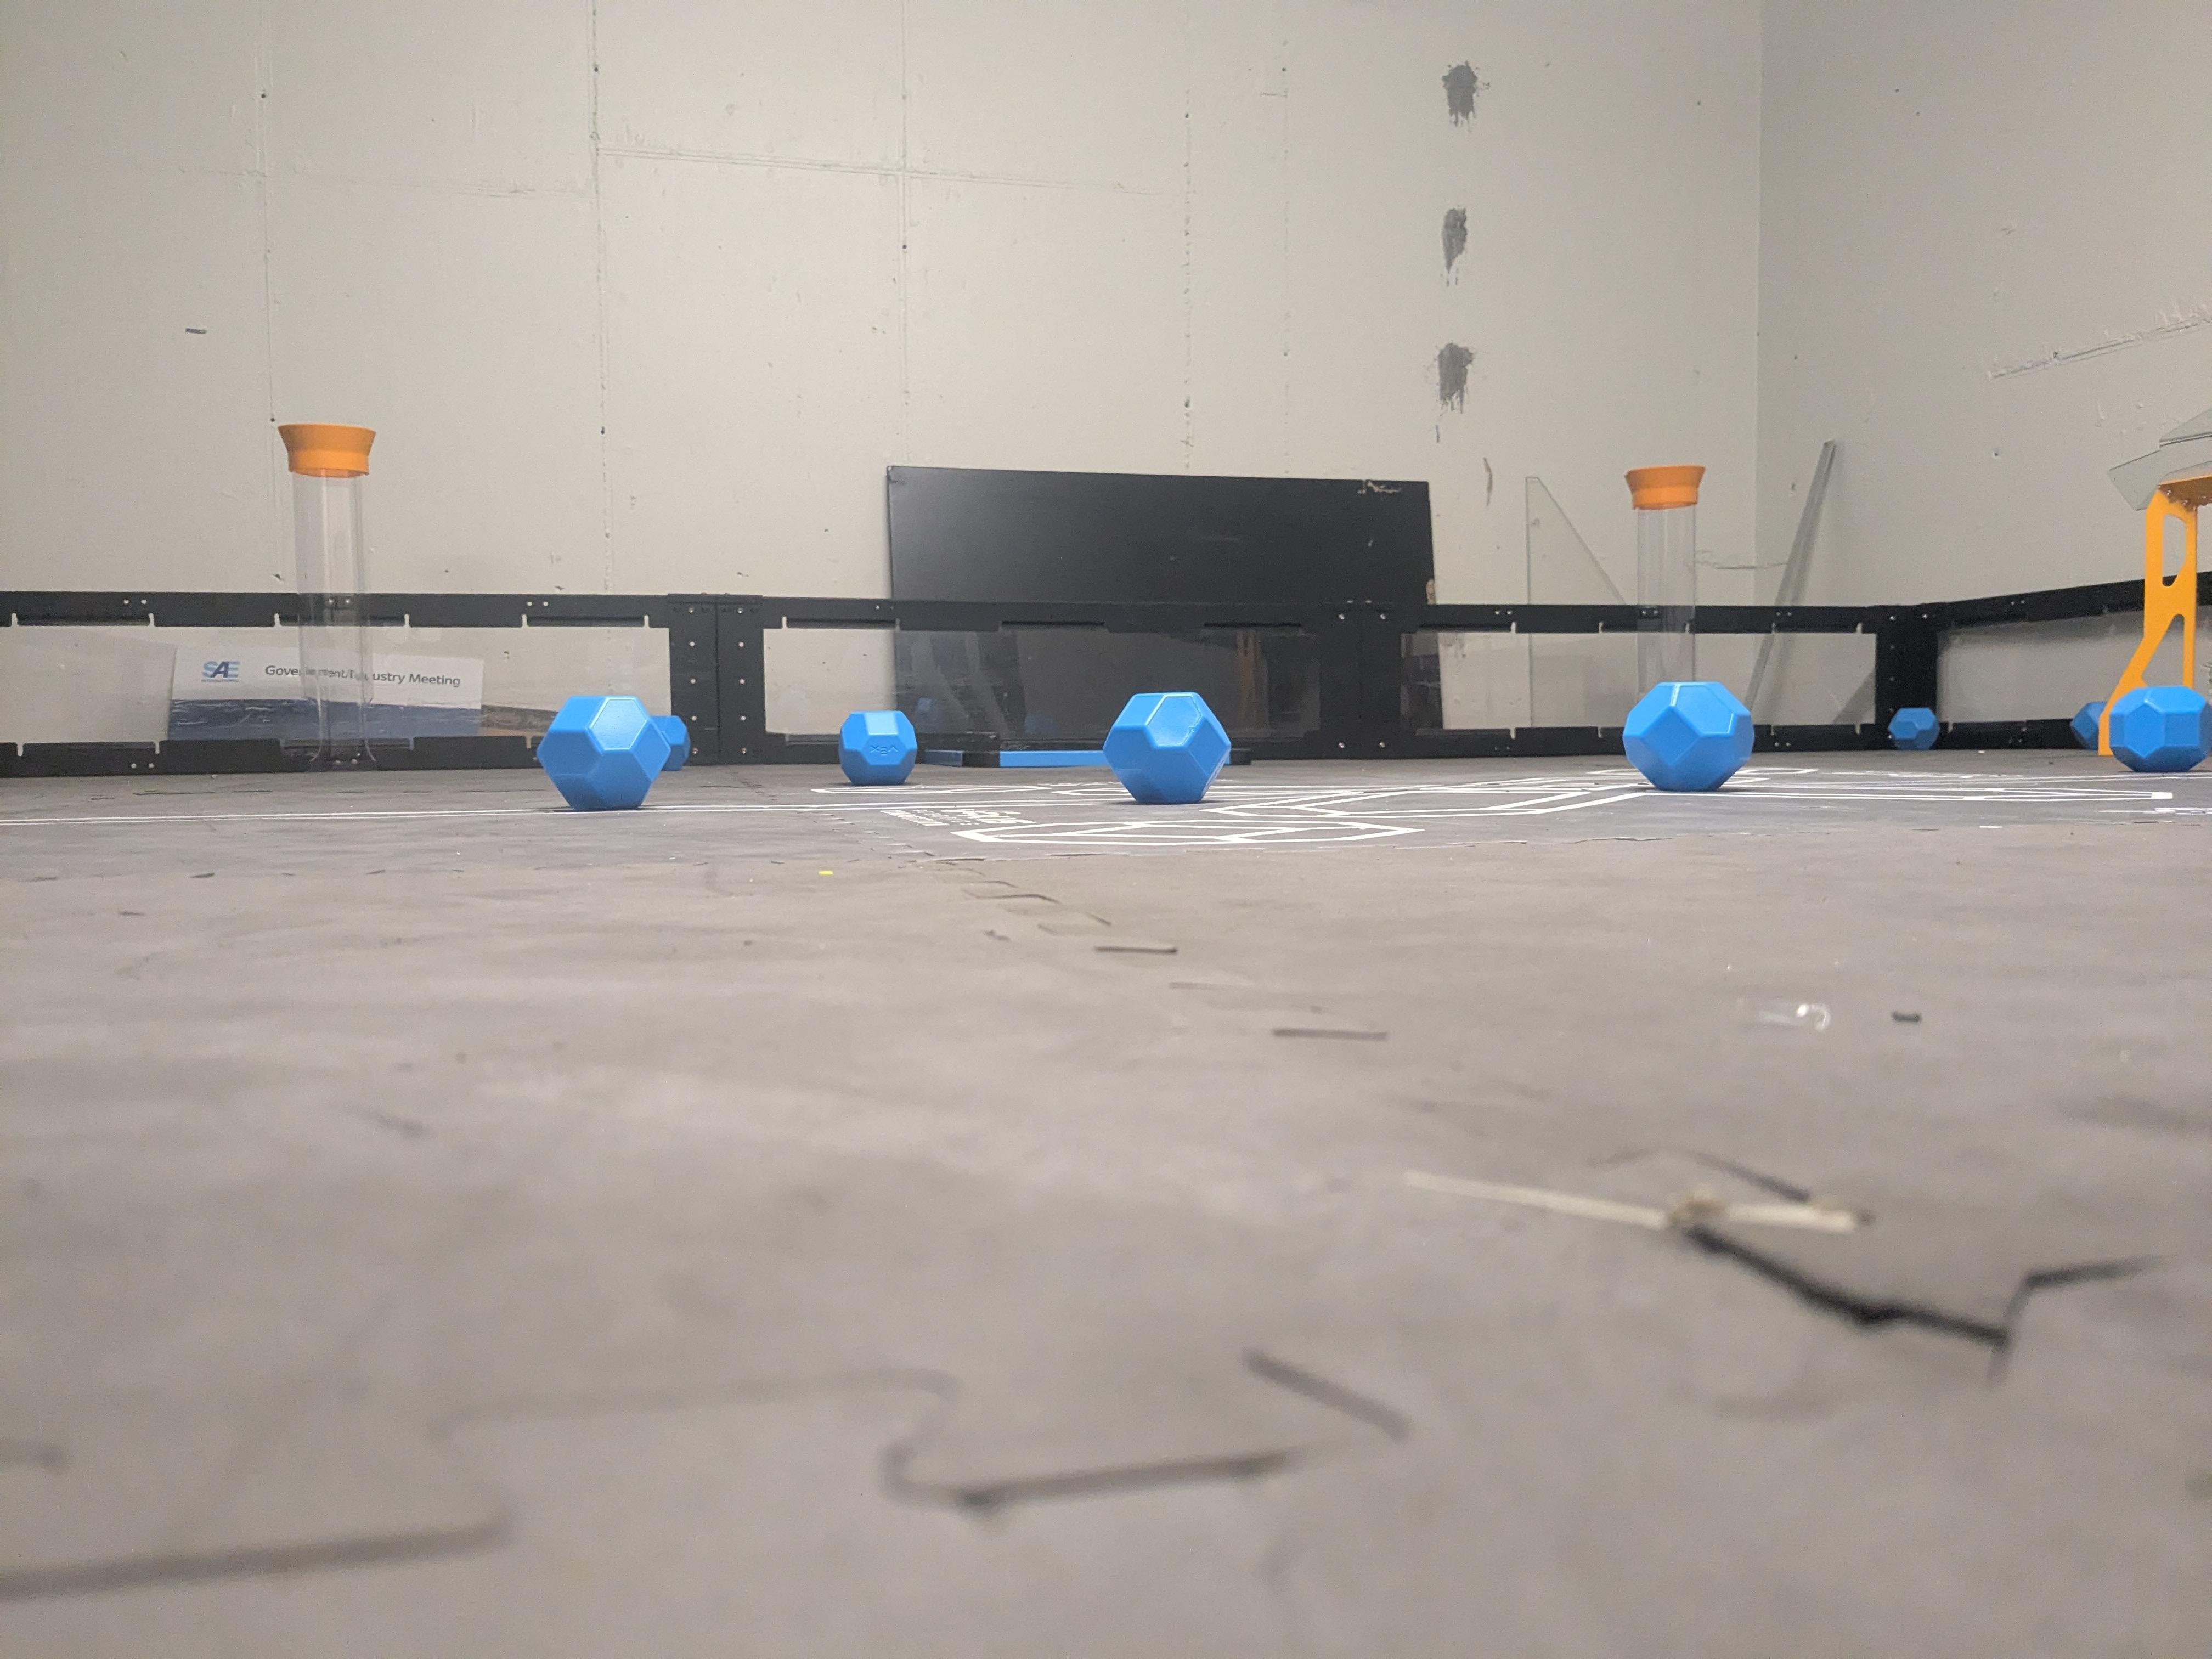Vex-Pieces-BLUE: (538, 694, 686, 805), (1625, 681, 1752, 788), (1109, 692, 1226, 805), (2078, 688, 2207, 770), (836, 709, 911, 784), (1888, 708, 1940, 749)
